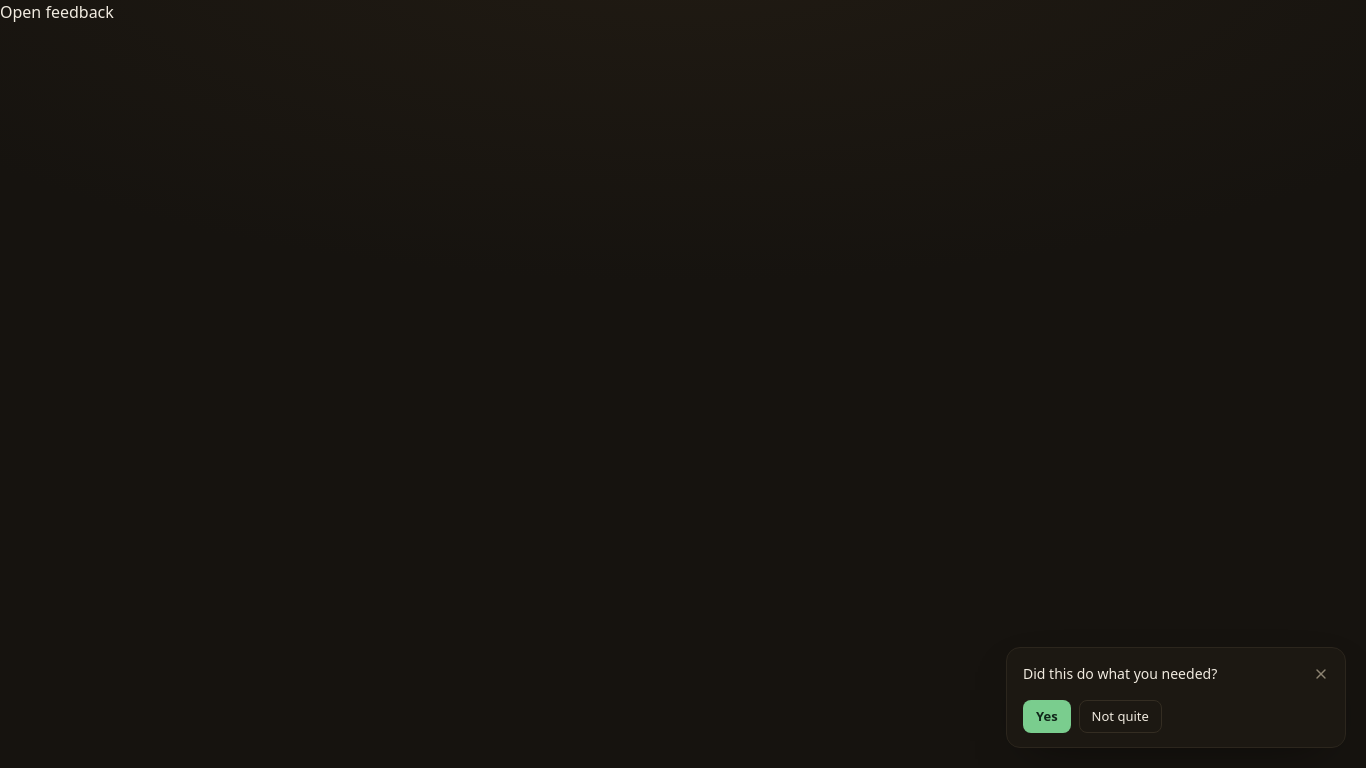
Test: the panel › sends the note under the origin it was opened from
The width and height of the screenshot is (1366, 768).
Click the button "Not quite" at (1120, 716), box [1079,700,1162,733]
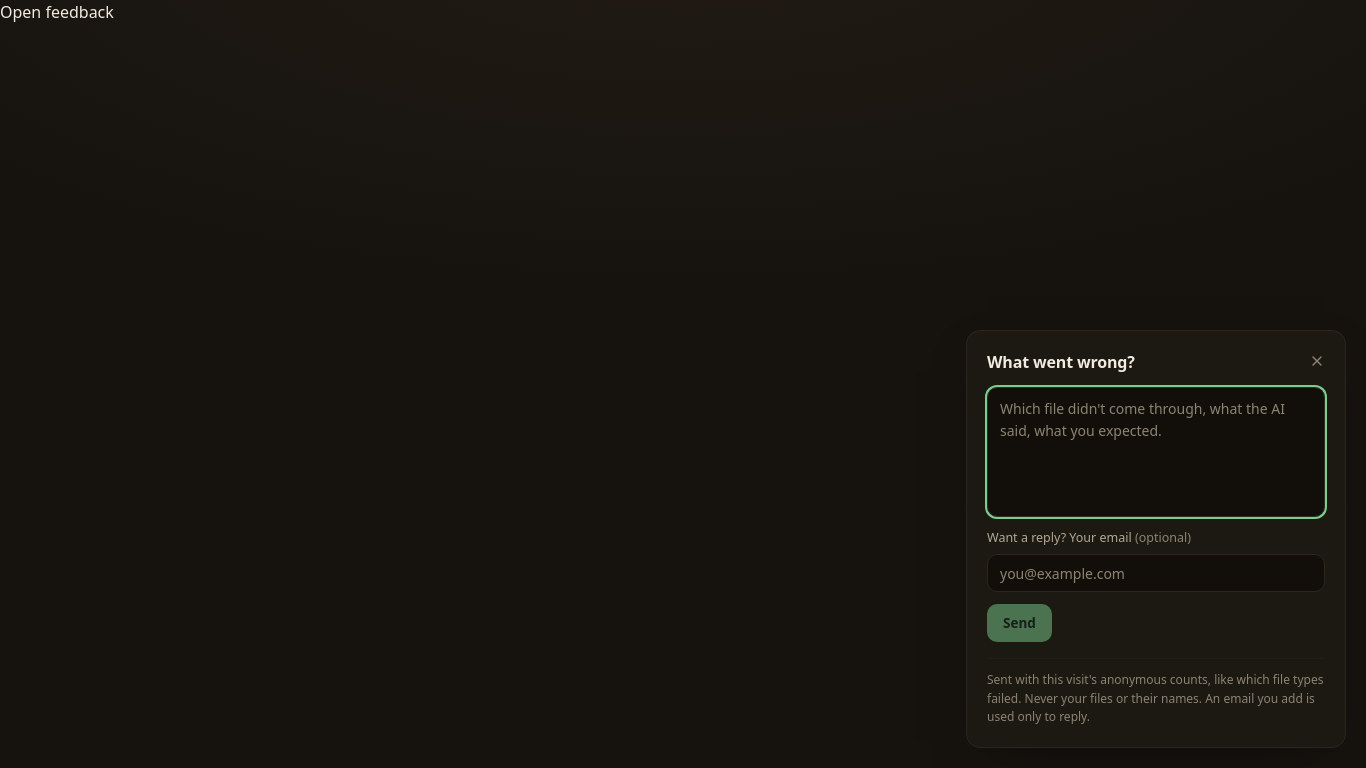
Replace the text in the text box labelled "What went wrong?" with " the pdf was empty " at (1156, 452), box [987,387,1325,517]
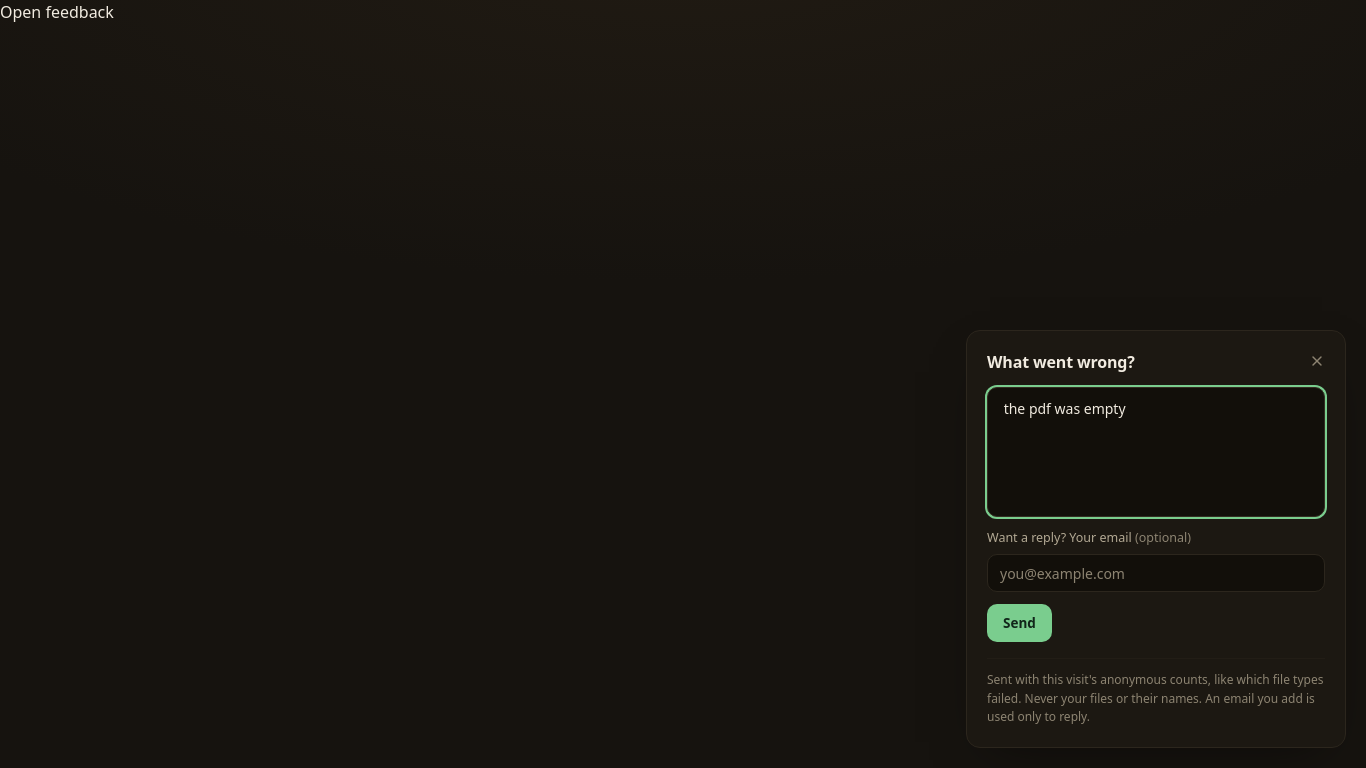
Click the button "Send" at (1019, 623), box [987,604,1052,642]
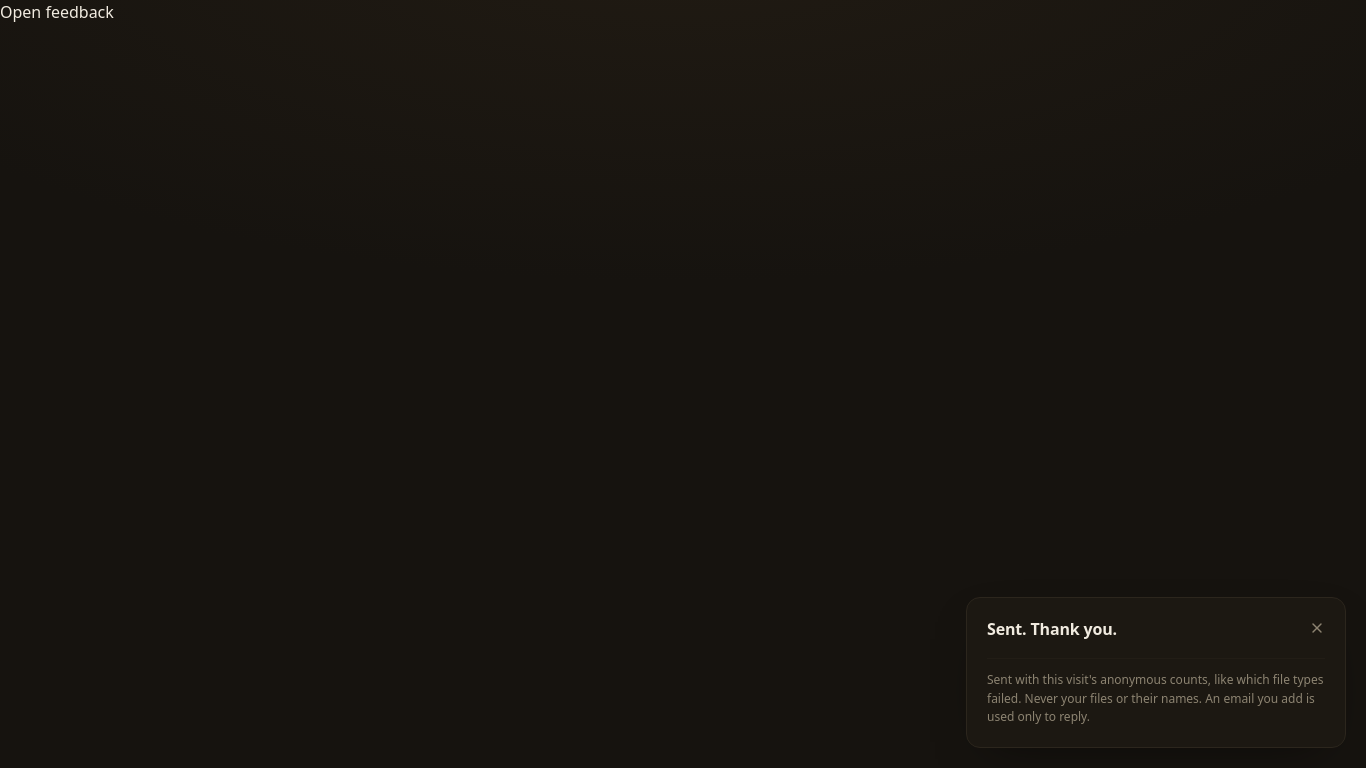
expect the heading "Sent. Thank you." is shown: met, box [987,618,1117,640]
